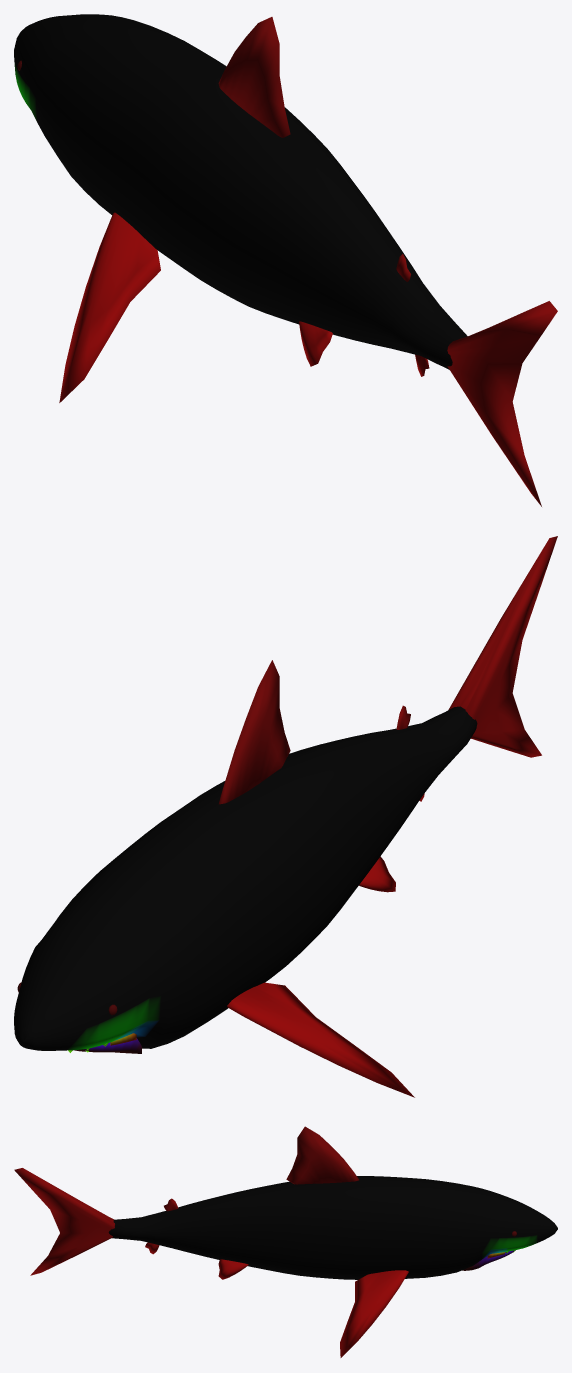
File: white_shark_lo.glb
The picture shows the model from 3 angles, top to bottom: view 1: azimuth 30°, elevation 25°; view 2: azimuth 150°, elevation 25°; view 3: azimuth 270°, elevation 25°; orthographic projection. The views are drawn at different scales.
Parts seen in each view (by area): view 1: white_shark_lo; view 2: white_shark_lo; view 3: white_shark_lo.
Boxes of the visible parts, x1,y1,x2,y2 form: white_shark_lo: (14, 14, 557, 506); white_shark_lo: (14, 536, 557, 1097); white_shark_lo: (14, 1126, 557, 1357).
Bounding box in the file's own units: 1.83 × 1.81 × 4.75.
